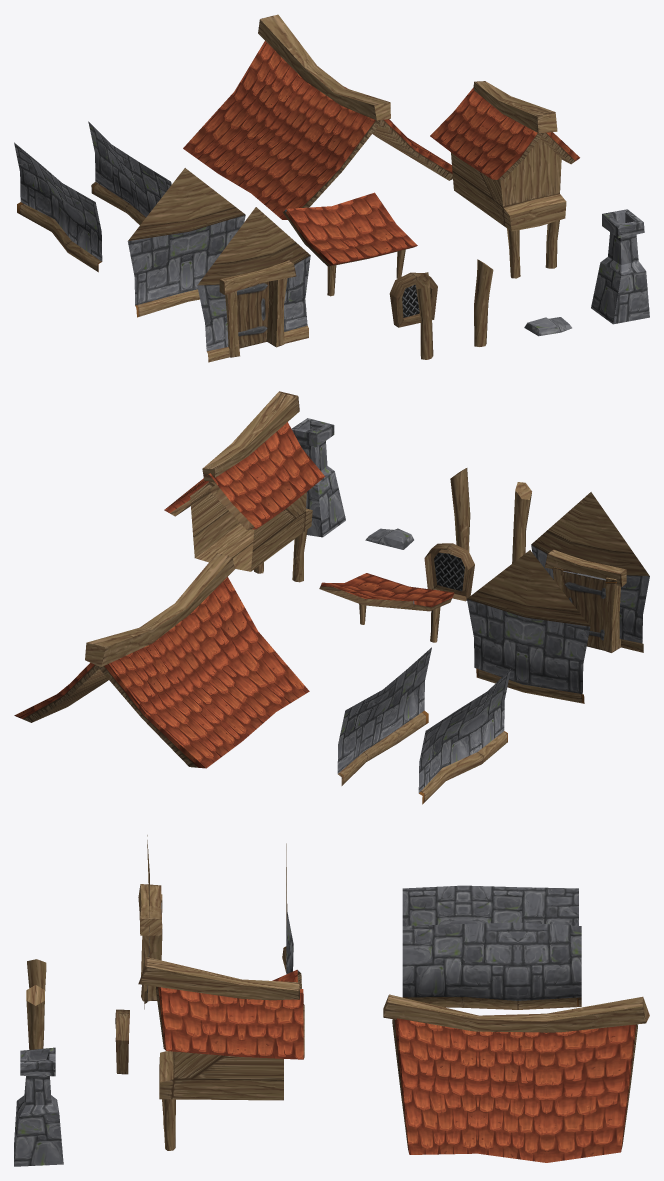
The model's file is village_02.FBX.
3 views of the same model, one above another, from view 1: azimuth 30°, elevation 25°; view 2: azimuth 150°, elevation 25°; view 3: azimuth 270°, elevation 25° (orthographic). The views are drawn at different scales.
Parts seen in each view (by area): view 1: village_house_part_004, village_house_part_001, village_house_part_006, village_house_part_012, village_house_part_005, village_house_part_011, village_house_part_003, village_house_part_010, village_house_part_002, village_house_part_008, village_house_part_009, village_house_part_007; view 2: village_house_part_004, village_house_part_001, village_house_part_012, village_house_part_006, village_house_part_010, village_house_part_011, village_house_part_005, village_house_part_003, village_house_part_002, village_house_part_008, village_house_part_009, village_house_part_007; view 3: village_house_part_004, village_house_part_001, village_house_part_010, village_house_part_011, village_house_part_003, village_house_part_006, village_house_part_008, village_house_part_002, village_house_part_012, village_house_part_009.
Part boxes in pixels (x1=…): village_house_part_004: x1=183, y1=14, x2=452, y2=219; village_house_part_001: x1=430, y1=81, x2=579, y2=278; village_house_part_006: x1=197, y1=207, x2=310, y2=362; village_house_part_012: x1=127, y1=168, x2=245, y2=317; village_house_part_005: x1=283, y1=192, x2=417, y2=296; village_house_part_011: x1=14, y1=142, x2=102, y2=272; village_house_part_003: x1=591, y1=209, x2=649, y2=324; village_house_part_010: x1=88, y1=121, x2=171, y2=224; village_house_part_002: x1=389, y1=272, x2=437, y2=327; village_house_part_008: x1=474, y1=259, x2=493, y2=346; village_house_part_009: x1=415, y1=272, x2=433, y2=359; village_house_part_007: x1=524, y1=317, x2=571, y2=336; village_house_part_004: x1=14, y1=553, x2=309, y2=768; village_house_part_001: x1=164, y1=391, x2=325, y2=582; village_house_part_012: x1=467, y1=550, x2=590, y2=703; village_house_part_006: x1=531, y1=492, x2=649, y2=652; village_house_part_010: x1=337, y1=647, x2=431, y2=785; village_house_part_011: x1=418, y1=669, x2=510, y2=804; village_house_part_005: x1=319, y1=573, x2=454, y2=642; village_house_part_003: x1=291, y1=418, x2=345, y2=537; village_house_part_002: x1=424, y1=543, x2=474, y2=601; village_house_part_008: x1=450, y1=468, x2=470, y2=551; village_house_part_009: x1=512, y1=482, x2=531, y2=563; village_house_part_007: x1=365, y1=528, x2=413, y2=549; village_house_part_004: x1=383, y1=994, x2=649, y2=1162; village_house_part_001: x1=138, y1=956, x2=304, y2=1150; village_house_part_010: x1=402, y1=922, x2=581, y2=1009; village_house_part_011: x1=402, y1=885, x2=578, y2=925; village_house_part_003: x1=14, y1=1047, x2=63, y2=1166; village_house_part_006: x1=138, y1=835, x2=162, y2=1009; village_house_part_008: x1=26, y1=985, x2=44, y2=1049; village_house_part_002: x1=115, y1=1009, x2=129, y2=1074; village_house_part_012: x1=282, y1=843, x2=293, y2=974; village_house_part_009: x1=27, y1=959, x2=46, y2=990.
Size of the model in its own units: 363 by 147 by 464.
